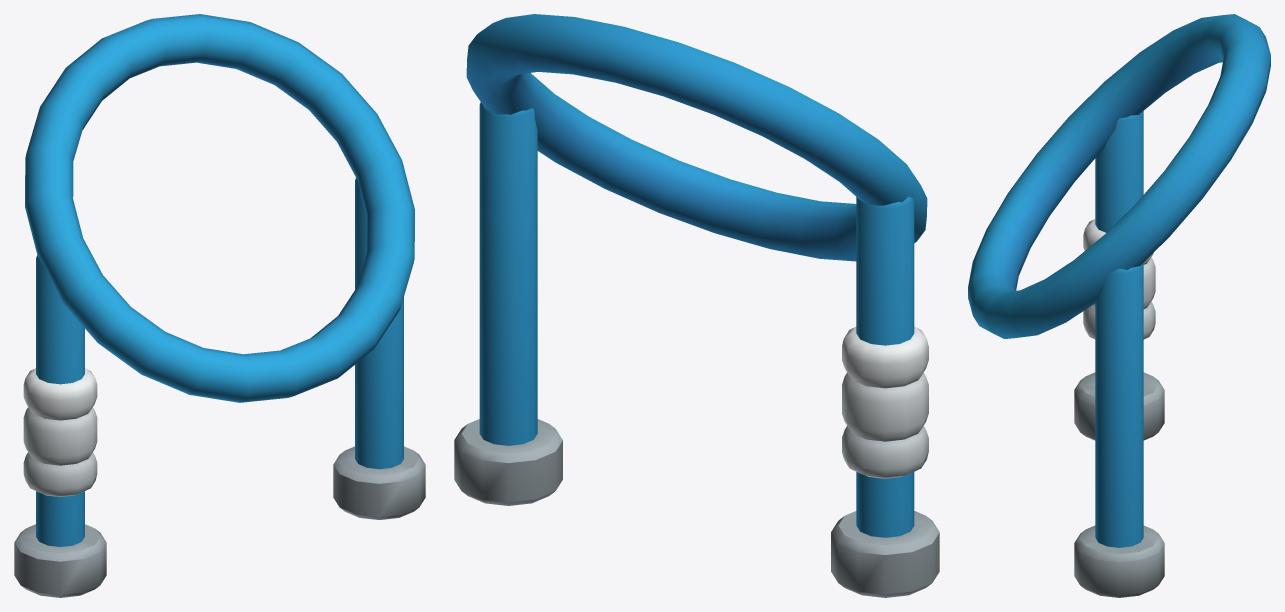
Rendered from hoop_angled_blue.glb.
3 views of the same model, side by side, from view 1: azimuth 30°, elevation 25°; view 2: azimuth 150°, elevation 25°; view 3: azimuth 270°, elevation 25° (orthographic). The views are drawn at different scales.
Parts seen in each view (by area): view 1: hoop_angled_blue; view 2: hoop_angled_blue; view 3: hoop_angled_blue.
Part boxes in pixels (x1,y1,x2,y2): hoop_angled_blue: (14,14,425,597); hoop_angled_blue: (454,14,939,597); hoop_angled_blue: (968,14,1270,597).
Size of the model in its own units: 3.75 by 4.25 by 2.51.
Materials: 1 (1 with a texture image).
